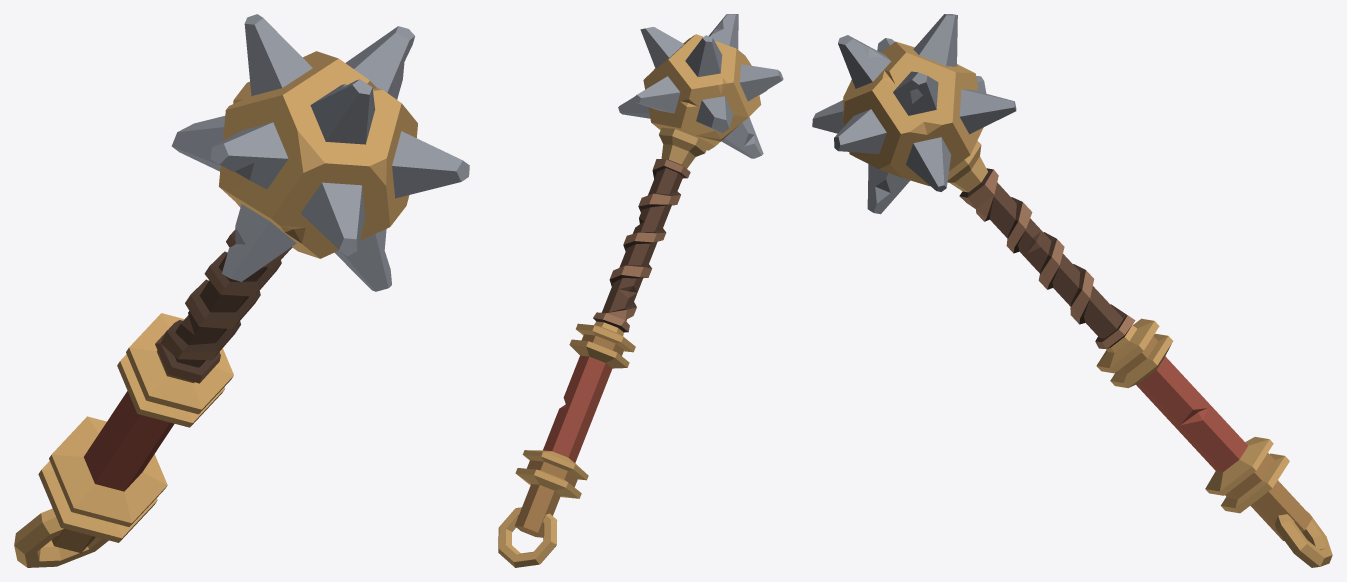
Rendered from dr-mace-medium-02.glb.
3 views of the same model, side by side, from view 1: azimuth 30°, elevation 25°; view 2: azimuth 150°, elevation 25°; view 3: azimuth 270°, elevation 25° (orthographic). The views are drawn at different scales.
Parts seen in each view (by area): view 1: dr-mace-medium-02; view 2: dr-mace-medium-02; view 3: dr-mace-medium-02.
Boxes of the visible parts, bbox=[...] form: dr-mace-medium-02: bbox=[14, 14, 469, 567]; dr-mace-medium-02: bbox=[498, 14, 783, 567]; dr-mace-medium-02: bbox=[812, 14, 1332, 567].
Bounding box in the file's own units: 0.2457 × 0.7033 × 0.6276.
1 material, 1 textured.
